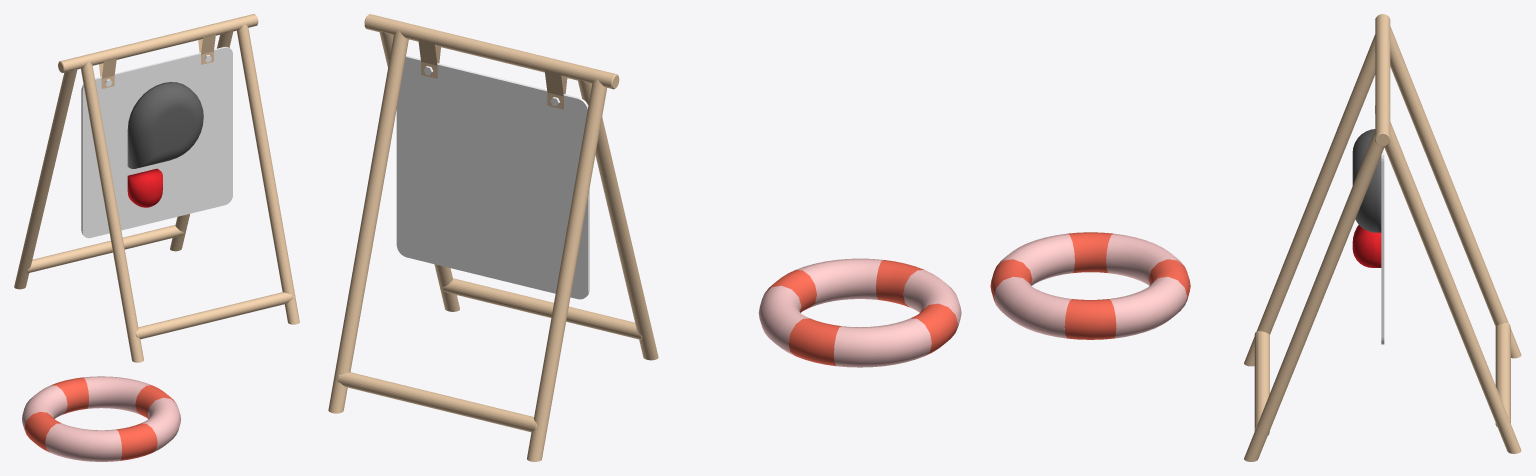
File: streetboard.gltf
The picture shows the model from 3 angles, left to right: view 1: azimuth 30°, elevation 25°; view 2: azimuth 150°, elevation 25°; view 3: azimuth 270°, elevation 25°; orthographic projection. The views are drawn at different scales.
Visible parts, largest first — view 1: Cylinder.002, Cube, life_balloon, P, Hinge; view 2: Cube, Cylinder.002, life_balloon, Hinge; view 3: Cylinder.002, life_balloon, P, Cube.
Boxes of the visible parts, left/top/right/bottom form: Cylinder.002: left=14, top=14, right=299, bottom=362; Cube: left=81, top=46, right=232, bottom=238; life_balloon: left=22, top=376, right=180, bottom=461; P: left=127, top=82, right=203, bottom=207; Hinge: left=99, top=24, right=216, bottom=88; Cube: left=396, top=55, right=589, bottom=299; Cylinder.002: left=328, top=14, right=658, bottom=461; life_balloon: left=758, top=258, right=961, bottom=367; Hinge: left=418, top=27, right=567, bottom=109; Cylinder.002: left=1244, top=14, right=1521, bottom=461; life_balloon: left=990, top=232, right=1190, bottom=339; P: left=1352, top=129, right=1381, bottom=267; Cube: left=1381, top=148, right=1384, bottom=344.
Size of the model in its own units: 2.57 by 1.94 by 2.77.
